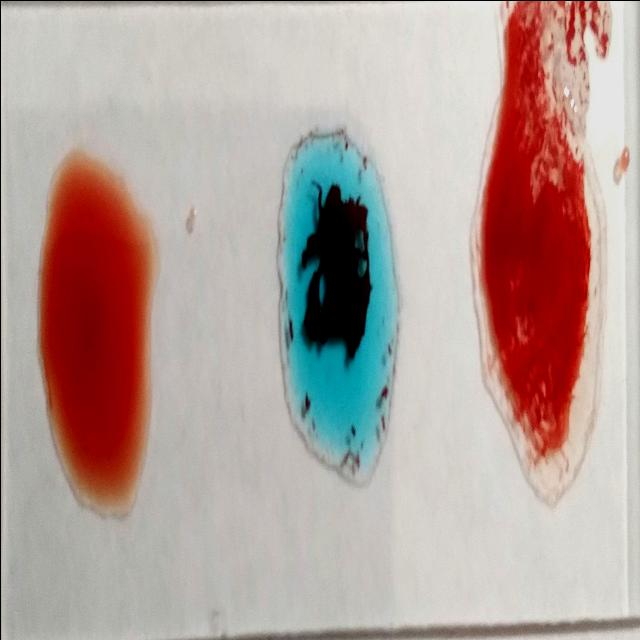A: (275, 118, 397, 492)
D: (479, 13, 604, 508)
